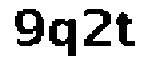2: (82, 7, 114, 50)
9: (13, 6, 44, 48)
q: (46, 17, 80, 58)
t: (116, 12, 139, 51)
